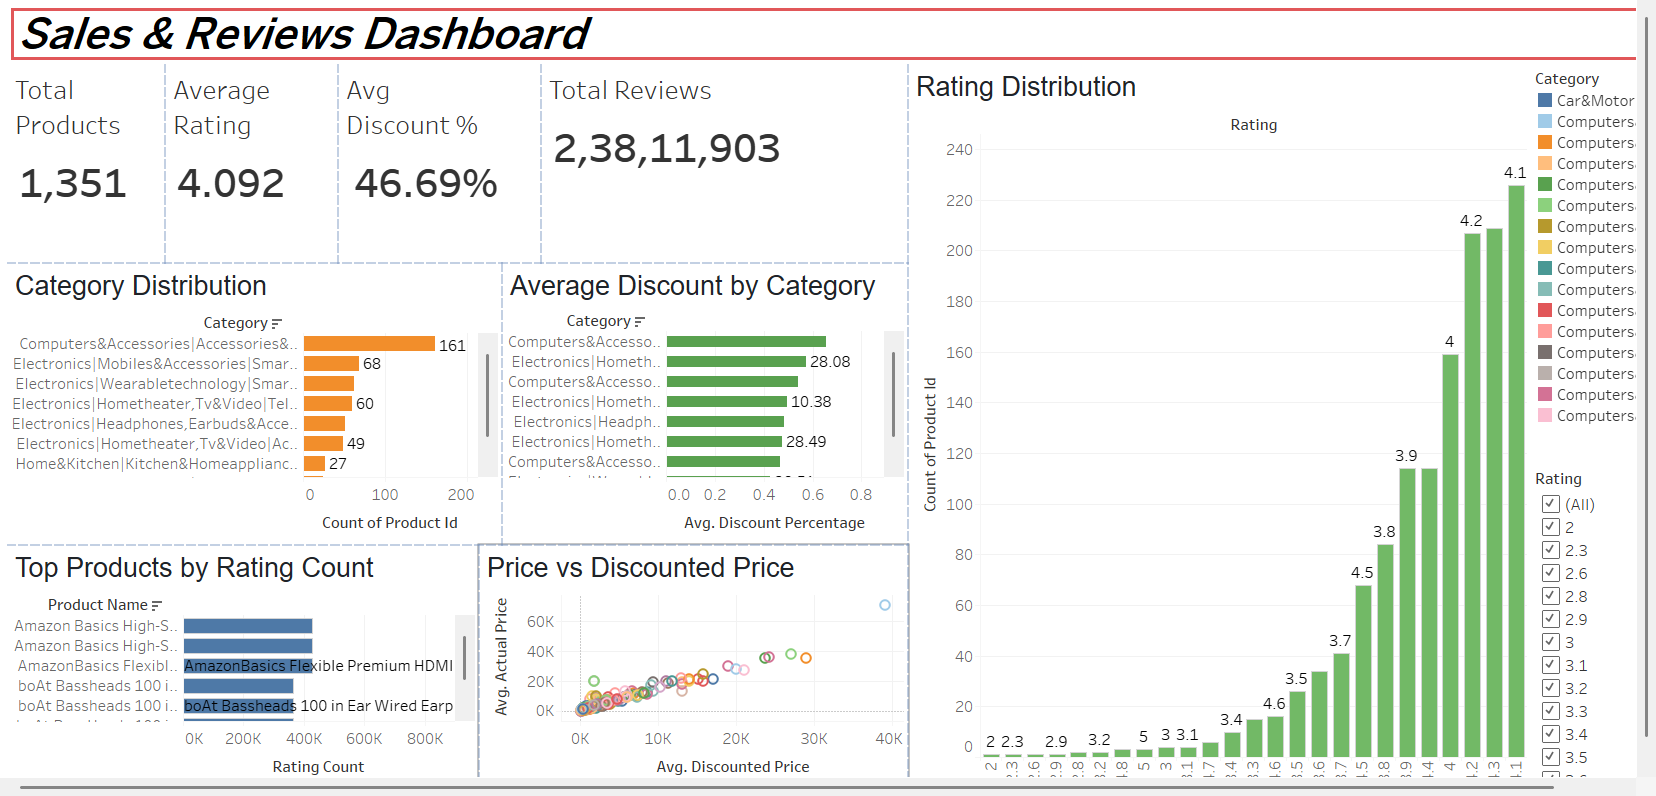

The page's visual inventory and layout, read from the dashboard file:
{"tool":"tableau","page":{"name":"Dashboard 2","canvas":[1700,800],"ordinal":1},"visuals":[{"type":"title","box":[8,8,1684,60]},{"type":"worksheet","title":"Total Products","mark":"Automatic","box":[8,68,158.3,199.4]},{"type":"worksheet","title":"Average Rating","mark":"Automatic","box":[166.3,68,173.1,199.4]},{"type":"worksheet","title":"Avg Discount %","mark":"Automatic","box":[339.4,68,202.6,199.4]},{"type":"worksheet","title":"Total Reviews","mark":"Automatic","box":[542,68,367.3,199.4]},{"type":"worksheet","title":"Sheet 4","mark":"Automatic","rows":["product_id"],"cols":["rating"],"box":[909.3,68,622.7,724]},{"type":"legend","title":"Sheet 3","param":"[federated.14xt5010v0d8r5122b5q40eo0809].[none:CATEGORY:nk]","box":[1532,68,160,368]},{"type":"worksheet","title":"Sheet 1","mark":"Automatic","rows":["CATEGORY"],"cols":["product_id"],"box":[8,267.4,494.9,281.2]},{"type":"worksheet","title":"Sheet 2","mark":"Automatic","rows":["CATEGORY"],"cols":["discount_percentage"],"box":[502.9,267.4,406.3,281.2]},{"type":"legend","title":"Sheet 4","param":"[federated.14xt5010v0d8r5122b5q40eo0809].[none:rating:ok]","box":[1532,436,160,32]},{"type":"filter","title":"Sheet 2","param":"[federated.14xt5010v0d8r5122b5q40eo0809].[none:rating:ok]","box":[1532,468,160,324]},{"type":"worksheet","title":"Sheet 5","mark":"Automatic","rows":["product_name"],"cols":["rating_count"],"box":[8,548.7,471.7,243.3]},{"type":"worksheet","title":"Sheet 3","mark":"Automatic","rows":["actual_price"],"cols":["discounted_price"],"box":[479.7,548.7,429.6,243.3]}]}

Visuals, with their boxes in screenshot pixels (x1, y1, x2, y2), scaled from the page's 1700x800 canvas onto the 1656x796 screenshot:
title: 8/8/1648/68
"Total Products" worksheet: 8/68/162/266
"Average Rating" worksheet: 162/68/331/266
"Avg Discount %" worksheet: 331/68/528/266
"Total Reviews" worksheet: 528/68/886/266
"Sheet 4" worksheet: 886/68/1492/788
"Sheet 3" legend: 1492/68/1648/434
"Sheet 1" worksheet: 8/266/490/546
"Sheet 2" worksheet: 490/266/886/546
"Sheet 4" legend: 1492/434/1648/466
"Sheet 2" filter: 1492/466/1648/788
"Sheet 5" worksheet: 8/546/467/788
"Sheet 3" worksheet: 467/546/886/788
